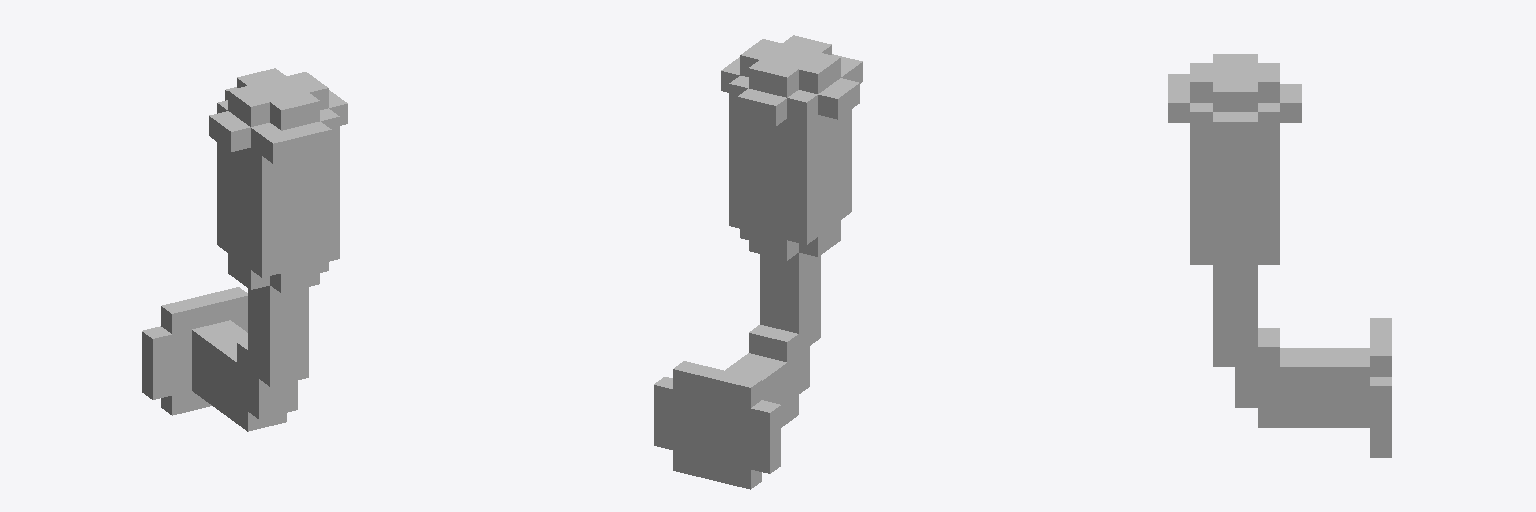
File: Light boat.obj
3 views of the same model, side by side, from view 1: azimuth 30°, elevation 25°; view 2: azimuth 150°, elevation 25°; view 3: azimuth 270°, elevation 25° (orthographic).
Visible parts, largest first — view 1: object 1; view 2: object 1; view 3: object 1.
Part boxes in pixels (x1,y1,x2,y2): object 1: (142,68,347,431); object 1: (654,35,862,489); object 1: (1168,54,1391,457).
Size of the model in its own units: 0.6 by 1.8 by 1.